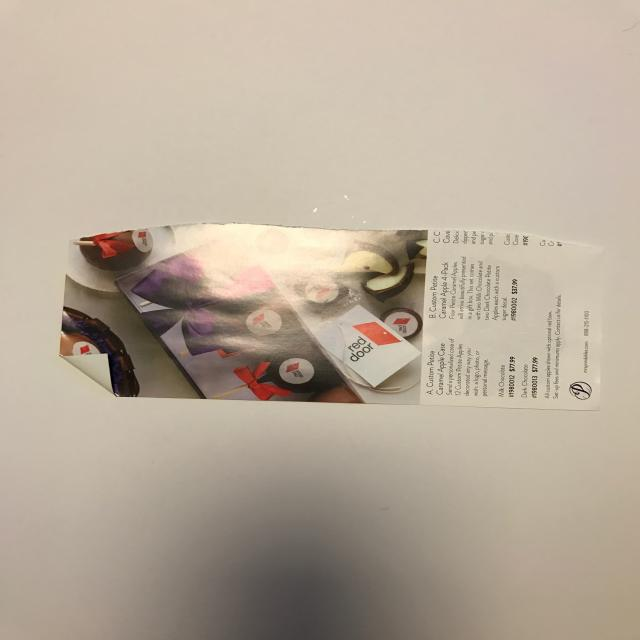Paper: (43, 193, 640, 452)
